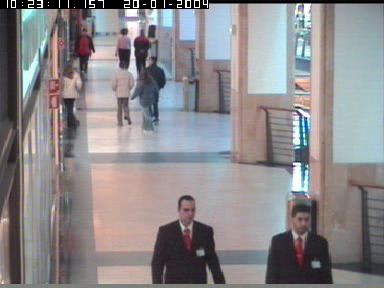person: (151, 193, 225, 285), (265, 203, 329, 285), (130, 68, 158, 134), (141, 56, 166, 124), (110, 61, 134, 126), (60, 58, 81, 129), (72, 27, 94, 75), (133, 29, 150, 77), (113, 28, 130, 69), (144, 9, 158, 39)
